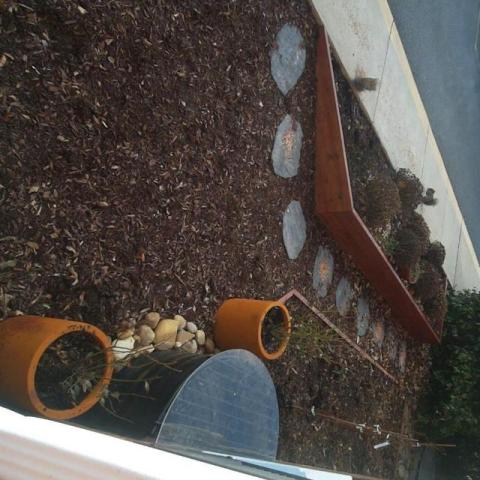small_animal: (352, 77, 380, 95), (418, 187, 442, 207)
